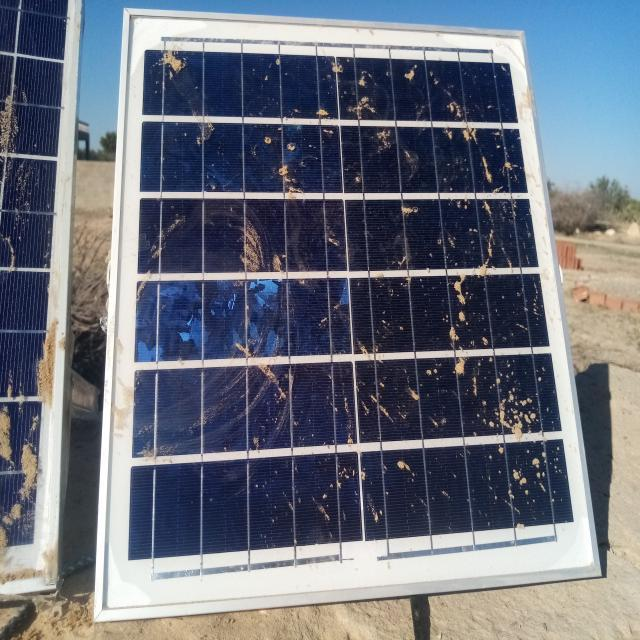faulty: (100, 14, 603, 613)
